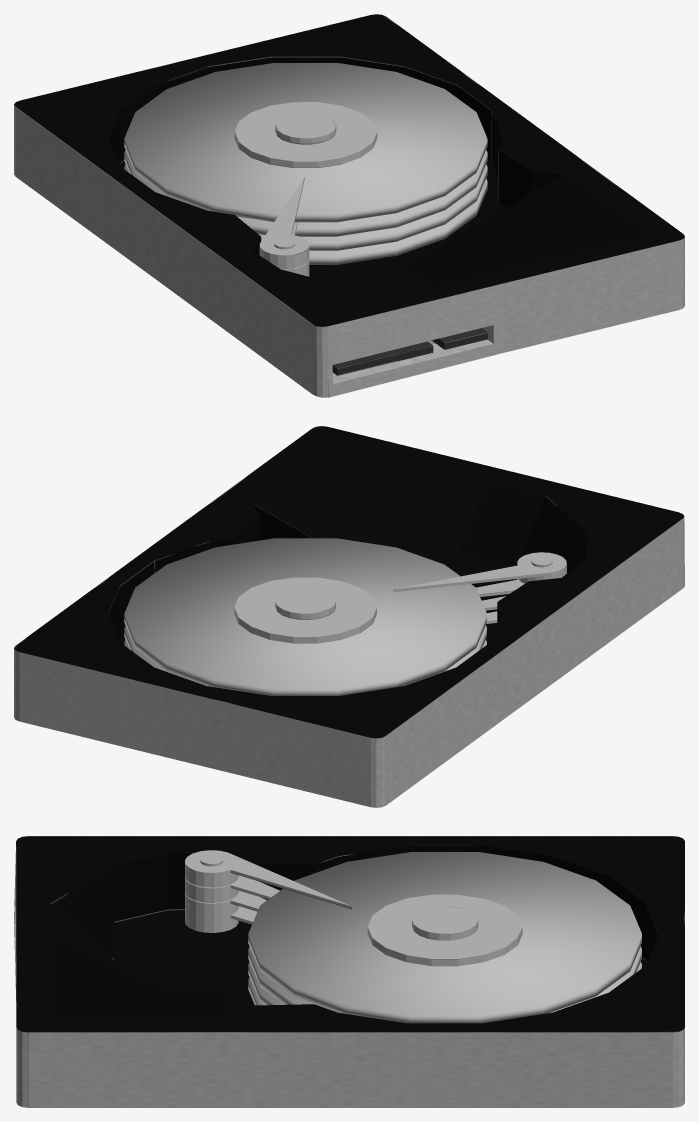
Rendered from HDD_INSIDE.fbx.
3 renders of one model, top to bottom at view 1: azimuth 30°, elevation 25°; view 2: azimuth 150°, elevation 25°; view 3: azimuth 270°, elevation 25°, orthographic. The views are drawn at different scales.
Visible parts, largest first — view 1: Plane.002; view 2: Plane.002; view 3: Plane.002.
Boxes of the visible parts, bbox=[...] form: Plane.002: bbox=[14, 14, 684, 397]; Plane.002: bbox=[14, 426, 684, 807]; Plane.002: bbox=[14, 836, 684, 1107].
Size of the model in its own units: 258 by 55.56 by 372.
